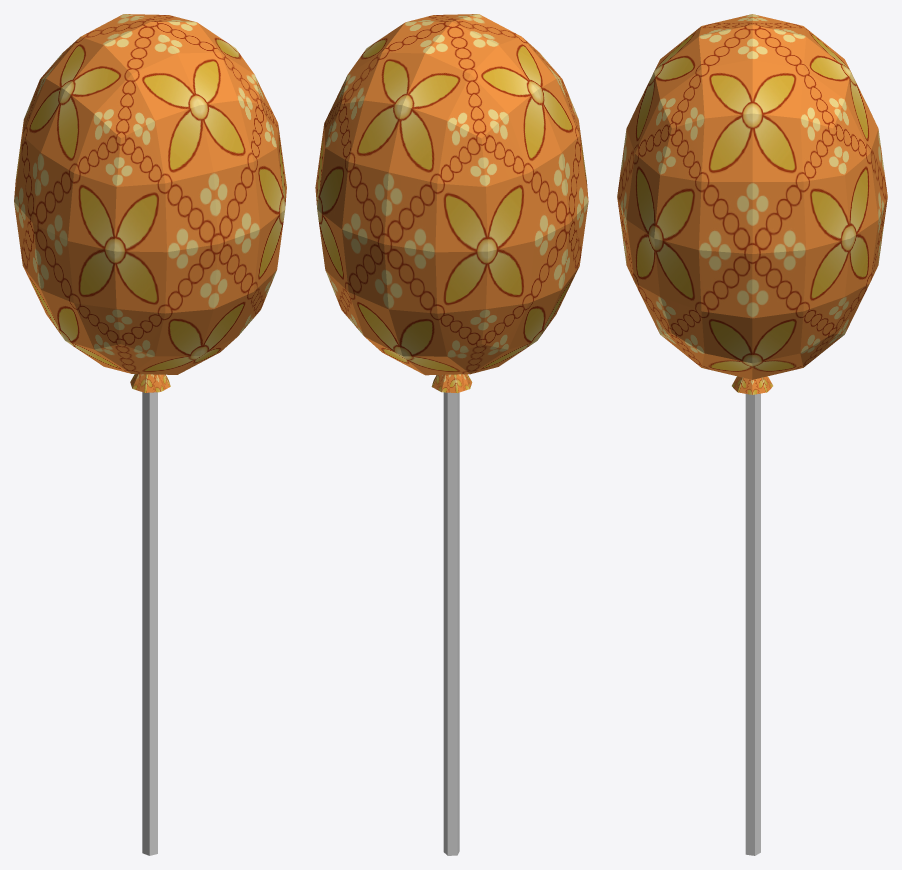
The model's file is Balon Batik Kuning.fbx.
3 views of the same model, side by side, from view 1: azimuth 30°, elevation 25°; view 2: azimuth 150°, elevation 25°; view 3: azimuth 270°, elevation 25° (orthographic).
Visible parts, largest first — view 1: Cylinder.008; view 2: Cylinder.008; view 3: Cylinder.008.
Part boxes in pixels (x1,y1,x2,y2): Cylinder.008: [14, 14, 286, 855]; Cylinder.008: [315, 14, 588, 855]; Cylinder.008: [617, 14, 887, 855].
Size of the model in its own units: 41.45 by 140 by 41.45.
Materials: 2 (1 with a texture image).
